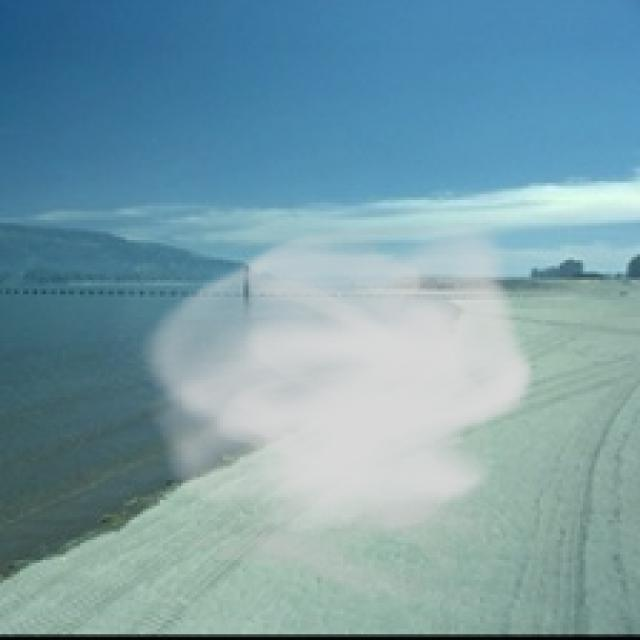smoke: (132, 212, 537, 612)
